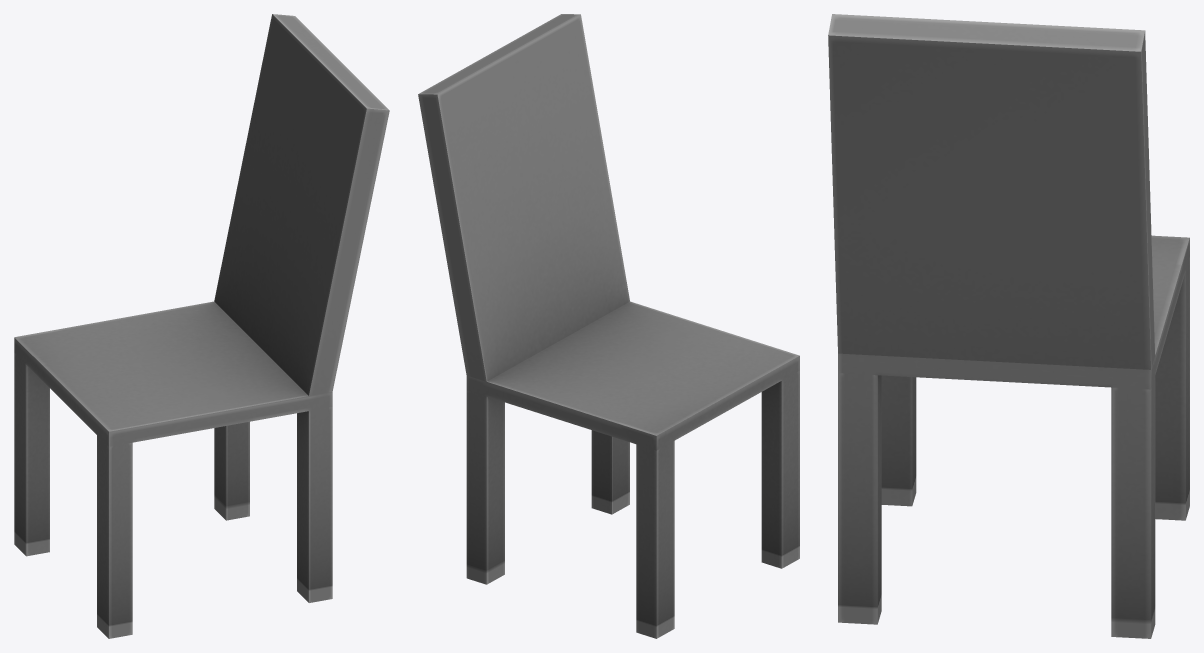
Rendered from bar_mesh.009_lev1.glb.
The picture shows the model from 3 angles, left to right: view 1: azimuth 30°, elevation 25°; view 2: azimuth 150°, elevation 25°; view 3: azimuth 270°, elevation 25°; orthographic projection. The views are drawn at different scales.
Visible parts, largest first — view 1: bar_mesh.009_lev1; view 2: bar_mesh.009_lev1; view 3: bar_mesh.009_lev1.
Boxes of the visible parts, x1,y1,x2,y2 form: bar_mesh.009_lev1: [14, 14, 389, 638]; bar_mesh.009_lev1: [418, 14, 799, 638]; bar_mesh.009_lev1: [828, 14, 1189, 638].
Bounding box in the file's own units: 1.79 × 2.88 × 1.5.
Materials: 1 (1 with a texture image).
